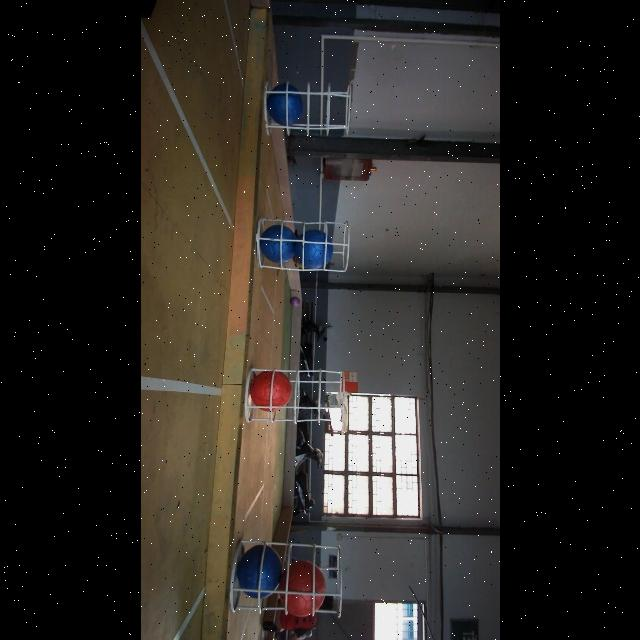B: (236, 544, 282, 598), (293, 229, 333, 269), (267, 84, 303, 126), (259, 225, 295, 263)
R: (280, 560, 326, 616), (250, 371, 292, 412)
